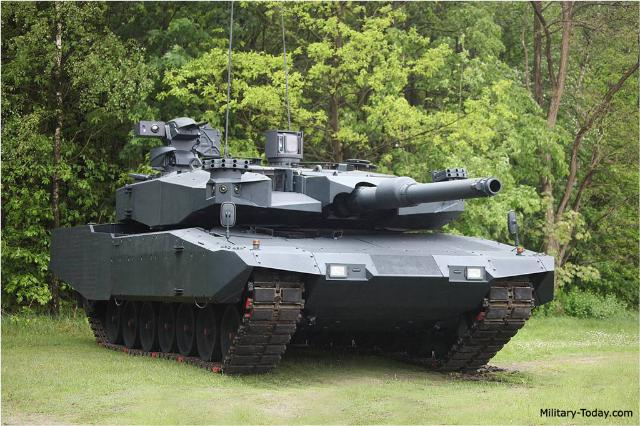tank: (53, 113, 554, 377)
